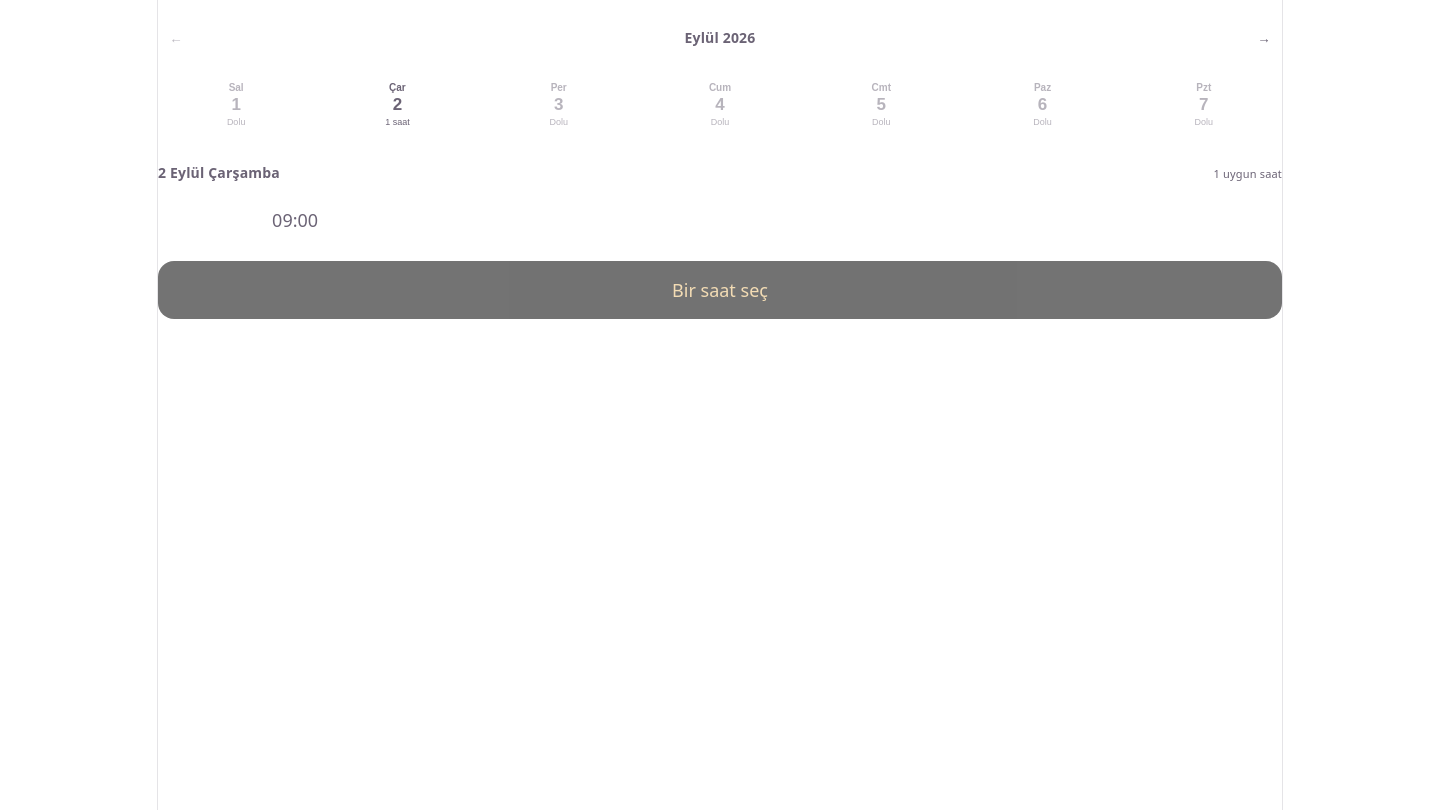
Scenario: SlotPicker › navigates only inside the supported range
Expected: the button named "Önceki haftayı göster" is disabled, [158,20,194,56]
Click the button named "Sonraki haftayı göster": (1264, 38) [1246,20,1282,56]
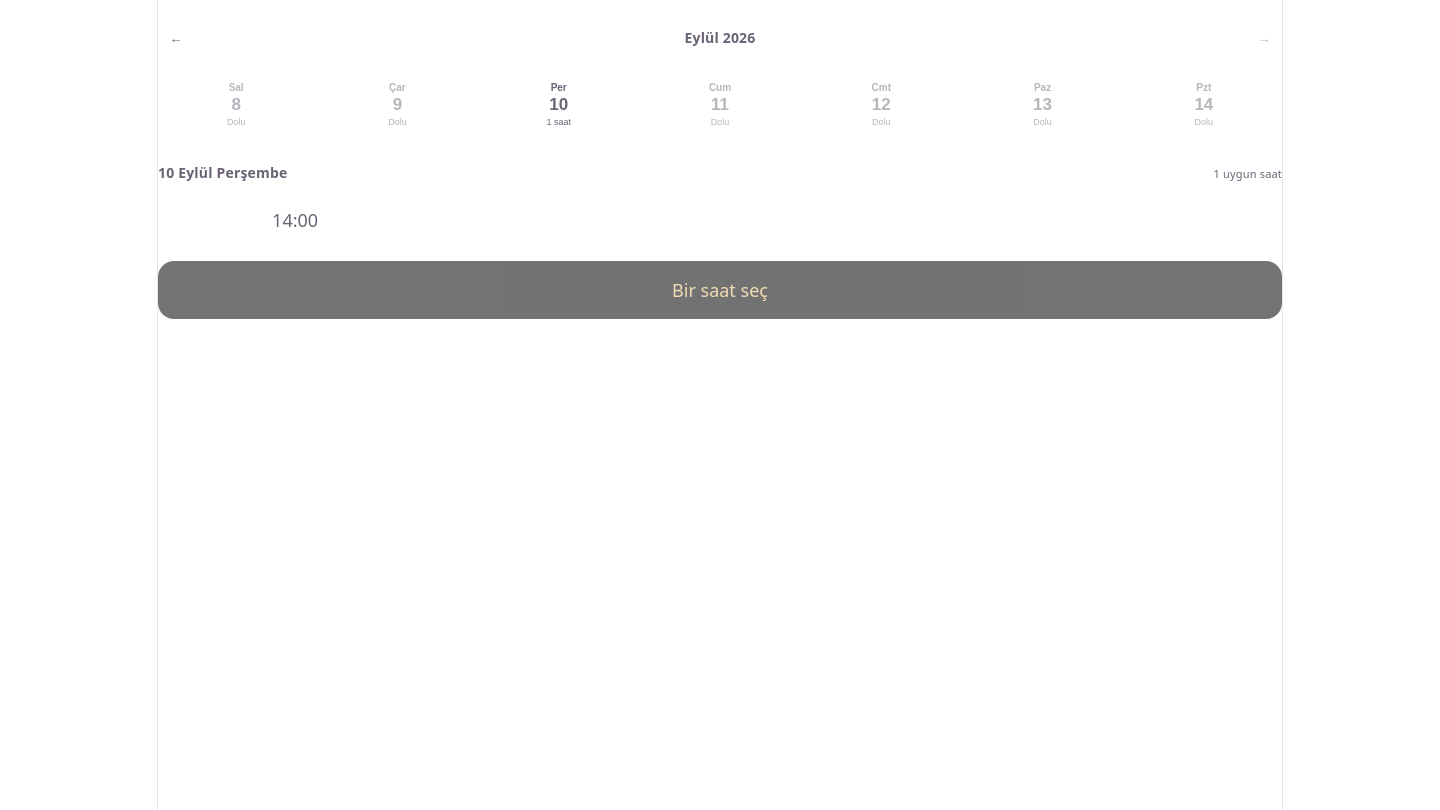
Now the button named "14:00 saatini seç" is shown, box [158,199,432,241]
